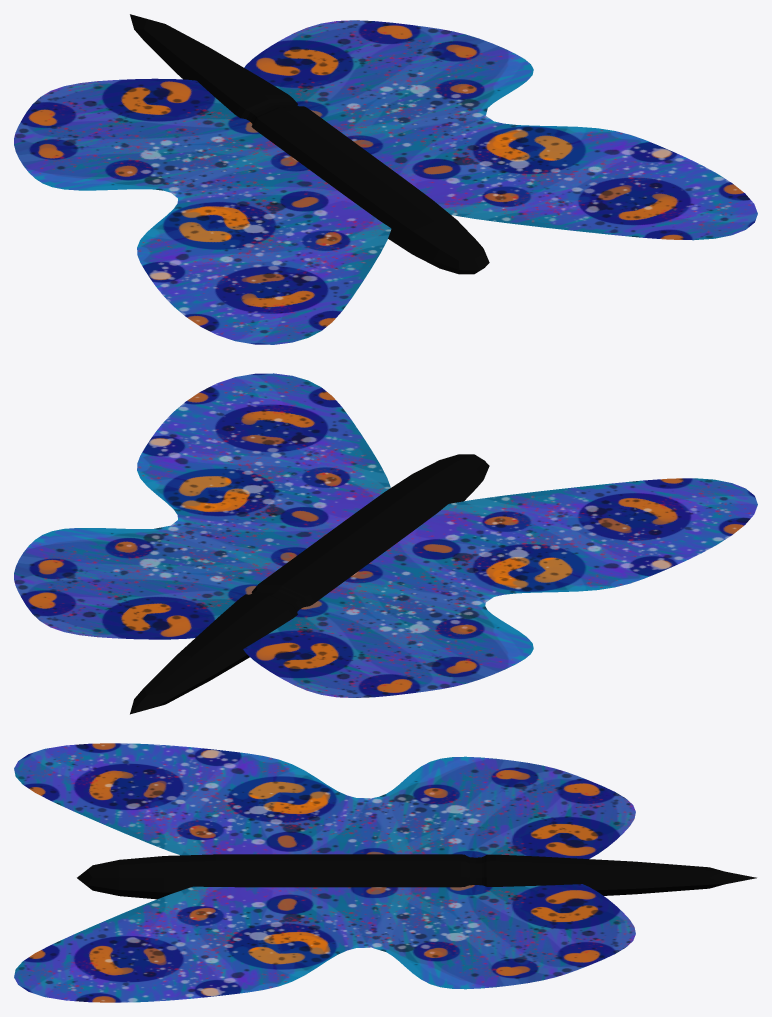
Rendered from Butterfly.fbx.
3 views of the same model, one above another, from view 1: azimuth 30°, elevation 25°; view 2: azimuth 150°, elevation 25°; view 3: azimuth 270°, elevation 25° (orthographic). The views are drawn at different scales.
Parts seen in each view (by area): view 1: Plane.003, Plane.001, Cube; view 2: Plane.003, Plane.001, Cube; view 3: Plane.001, Plane.003, Cube.
Part boxes in pixels (box(x1,y1,x2,y2)): Plane.003: box(14, 78, 391, 344); Plane.001: box(244, 20, 757, 240); Cube: box(130, 14, 489, 274); Plane.003: box(243, 478, 757, 697); Plane.001: box(14, 373, 390, 639); Cube: box(130, 454, 489, 714); Plane.001: box(14, 884, 635, 1002); Plane.003: box(14, 743, 635, 858); Cube: box(77, 854, 756, 899).
Size of the model in its own units: 10.34 by 0.6263 by 12.52.
Materials: 2 (1 with a texture image).
